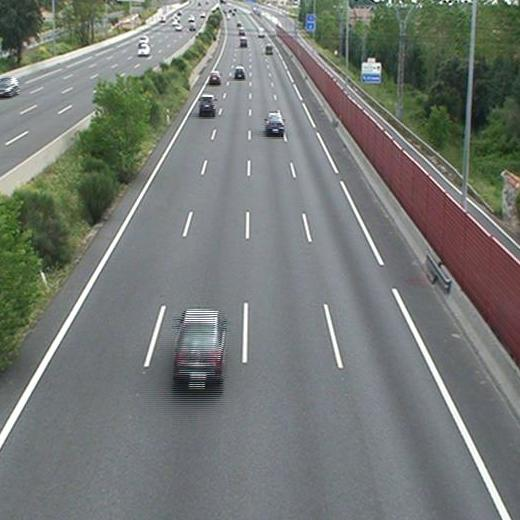car: (174, 311, 223, 383), (265, 113, 283, 132), (200, 95, 214, 113), (208, 71, 221, 84), (234, 66, 244, 79), (265, 44, 274, 56), (239, 37, 248, 48)
